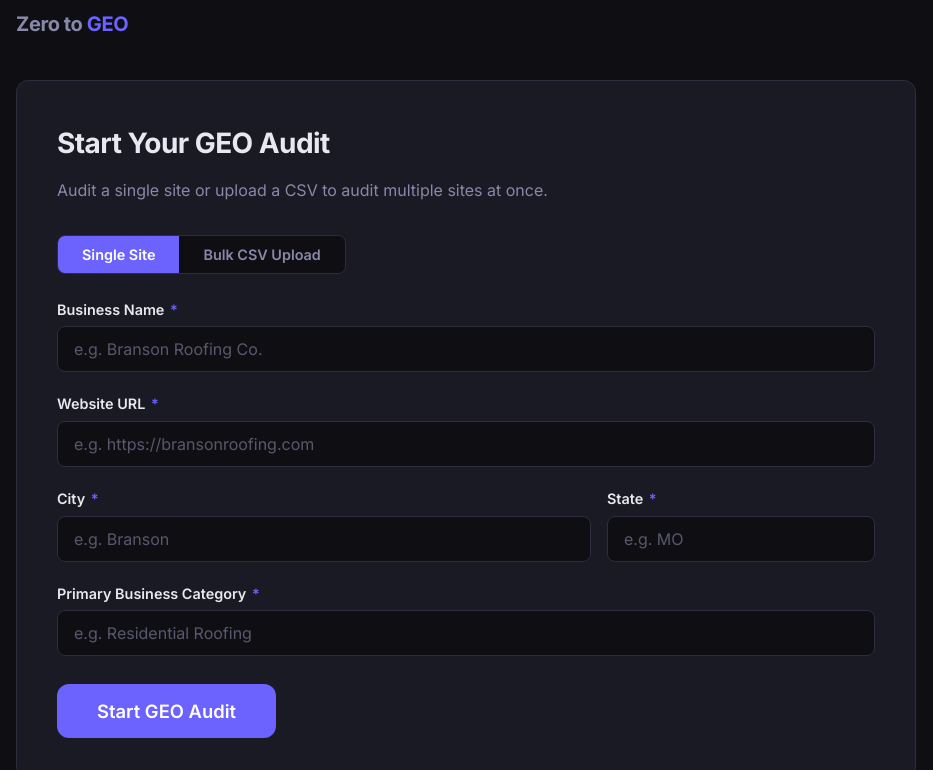
it: AuditInputPage › shows validation errors when submitted empty
This screenshot has width=933, height=770.
What coordinates should you click on to do the following:
click the button "Start GEO Audit"
I would click on:
 (166, 711)
Its box is top-left (57, 684), bottom-right (276, 738).
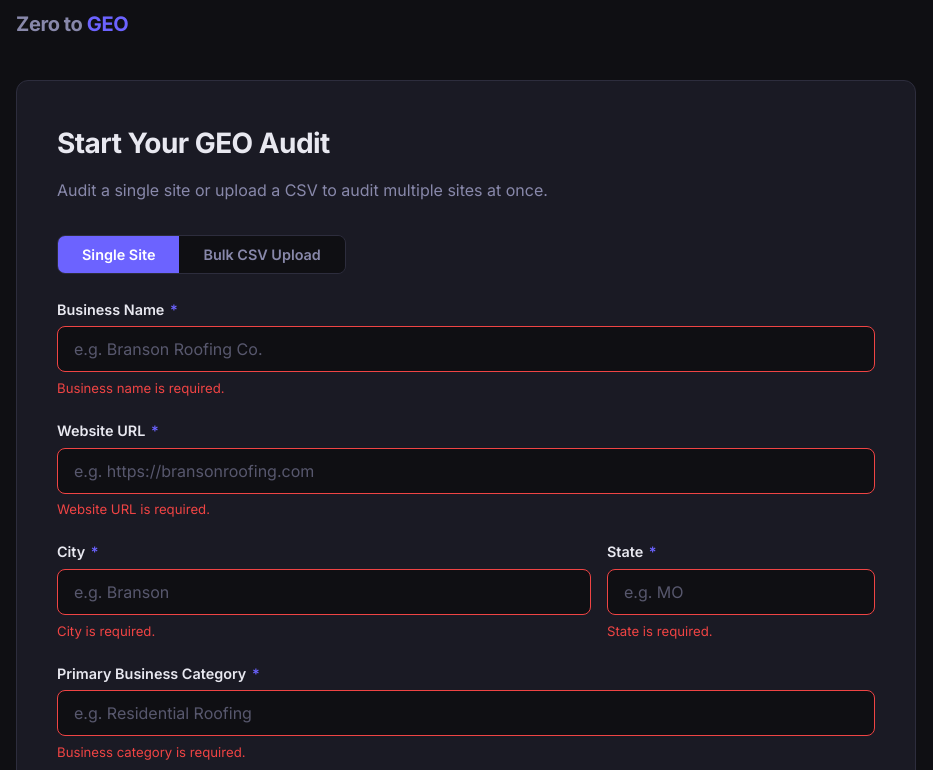
Now the text "Business name is required." is shown, box top-left (57, 380), bottom-right (224, 396)
Now the text "Website URL is required." is shown, box top-left (57, 501), bottom-right (210, 517)
Now the text "City is required." is shown, box top-left (57, 622), bottom-right (155, 638)
